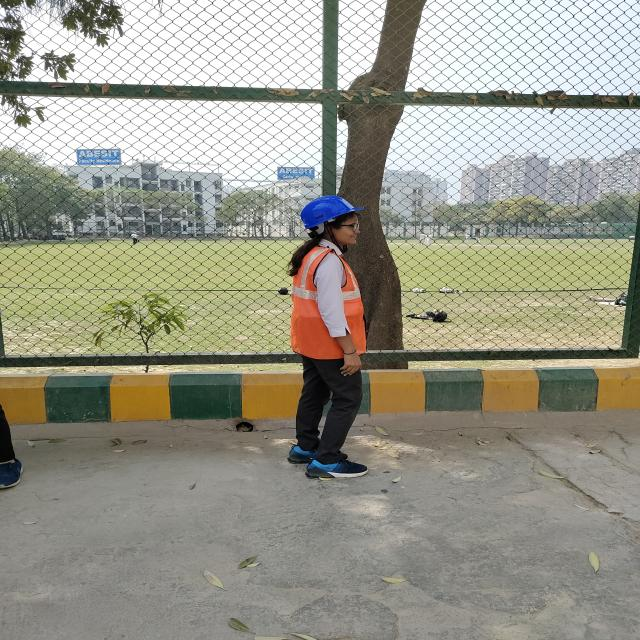safe: (287, 196, 369, 480)
